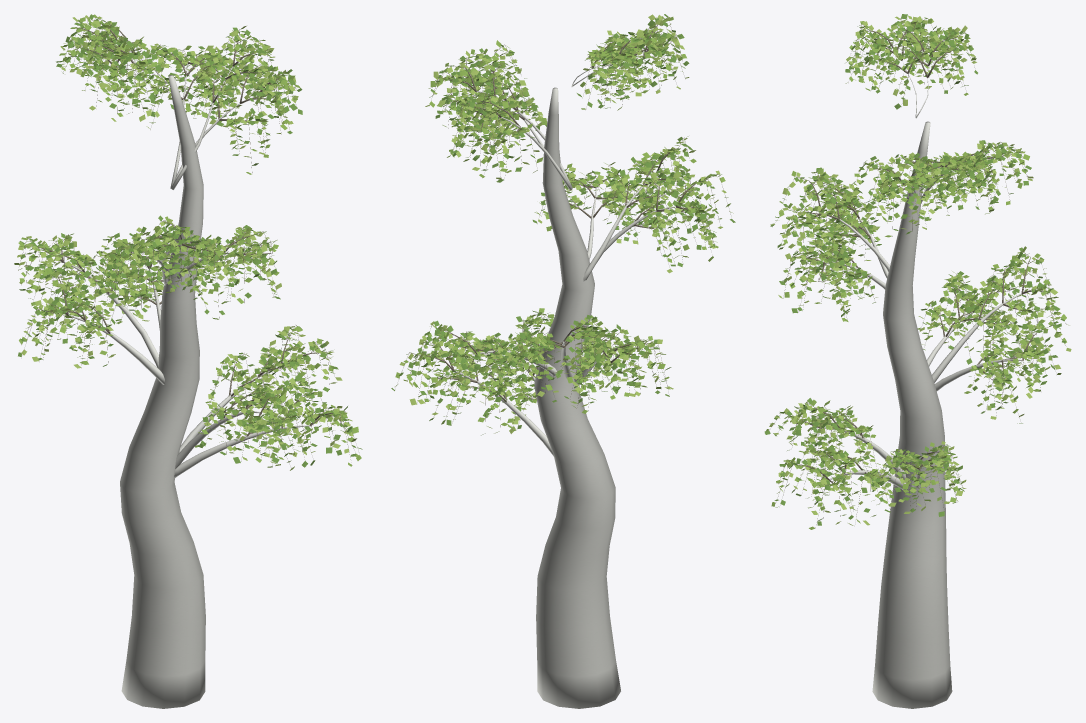
The model's file is bg_birch_1.glb.
3 views of the same model, side by side, from view 1: azimuth 30°, elevation 25°; view 2: azimuth 150°, elevation 25°; view 3: azimuth 270°, elevation 25° (orthographic). The views are drawn at different scales.
Visible parts, largest first — view 1: birch_trunk, birch_part3, birch_part1, birch_part2, birch_part0, birch_part94, birch_part90, birch_part95; view 2: birch_trunk, birch_part2, birch_part1, birch_part3, birch_part0; view 3: birch_trunk, birch_part3, birch_part1, birch_part2, birch_part0, birch_part95.
Boxes of the visible parts, box(x1,y1,x2,y2) form: birch_trunk: box(120, 75, 205, 708); birch_part3: box(17, 15, 356, 470); birch_part1: box(18, 14, 362, 467); birch_part2: box(14, 14, 361, 467); birch_part0: box(18, 18, 353, 465); birch_part94: box(174, 425, 309, 477); birch_part90: box(69, 315, 165, 384); birch_part95: box(63, 262, 158, 368); birch_trunk: box(534, 87, 620, 708); birch_part2: box(395, 16, 730, 430); birch_part1: box(391, 14, 735, 435); birch_part3: box(395, 14, 733, 433); birch_part0: box(399, 17, 730, 429); birch_trunk: box(872, 121, 952, 708); birch_part3: box(769, 15, 1071, 525); birch_part1: box(764, 14, 1065, 525); birch_part2: box(766, 19, 1066, 529); birch_part0: box(772, 18, 1065, 527); birch_part95: box(932, 293, 1021, 382).
Size of the model in its own units: 4.09 by 9 by 3.9.
Materials: 5 (5 with a texture image).
